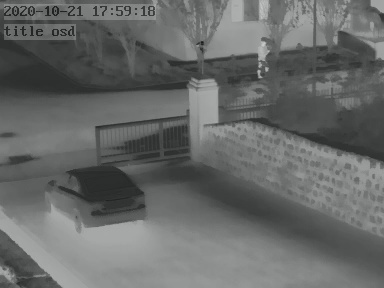person: (258, 38, 269, 74)
vehicle: (48, 160, 146, 229)
